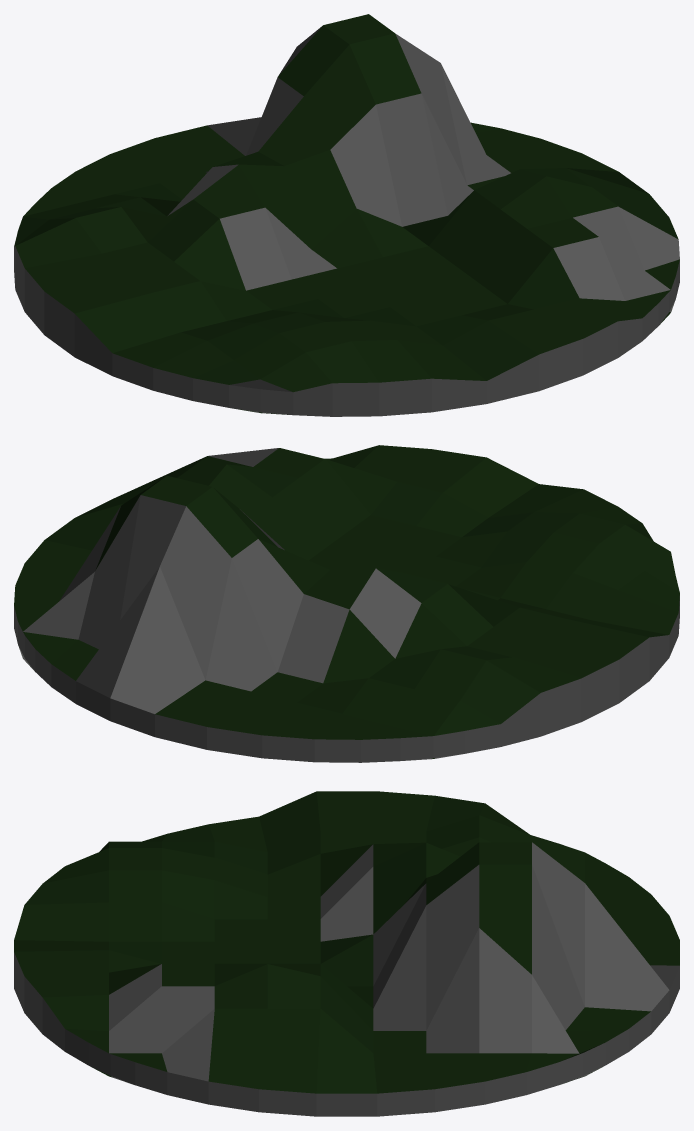
Rendered from ground_lvl_4.obj.
The picture shows the model from 3 angles, top to bottom: view 1: azimuth 30°, elevation 25°; view 2: azimuth 150°, elevation 25°; view 3: azimuth 270°, elevation 25°; orthographic projection.
Parts seen in each view (by area): view 1: Plane.001; view 2: Plane.001; view 3: Plane.001.
Part boxes in pixels (x1,y1,x2,y2): Plane.001: (14,14,679,416); Plane.001: (14,445,679,762); Plane.001: (14,791,679,1116).
Size of the model in its own units: 113 by 31.3 by 113.
